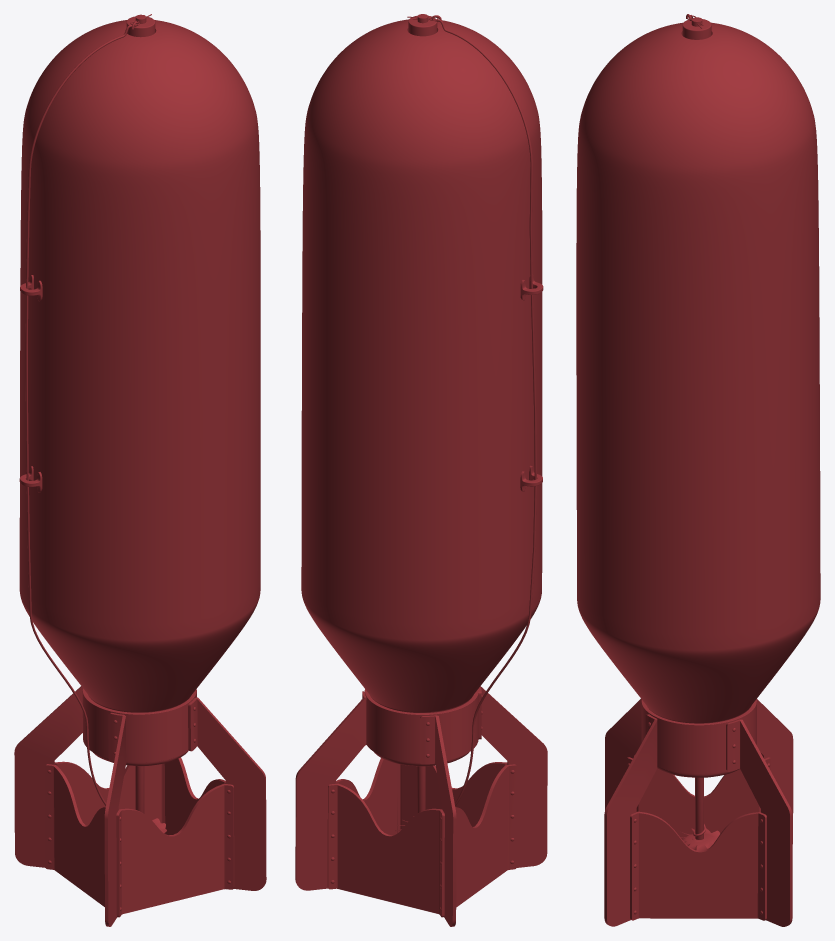
File: bombe.glb
3 renders of one model, left to right at view 1: azimuth 30°, elevation 25°; view 2: azimuth 150°, elevation 25°; view 3: azimuth 270°, elevation 25°, orthographic.
Visible parts, largest first — view 1: bomb_shading_v005; view 2: bomb_shading_v005; view 3: bomb_shading_v005.
Boxes of the visible parts, bbox=[...] form: bomb_shading_v005: bbox=[14, 14, 266, 926]; bomb_shading_v005: bbox=[295, 14, 547, 926]; bomb_shading_v005: bbox=[576, 14, 820, 926].
Size of the model in its own units: 0.3778 by 1.39 by 0.354.
